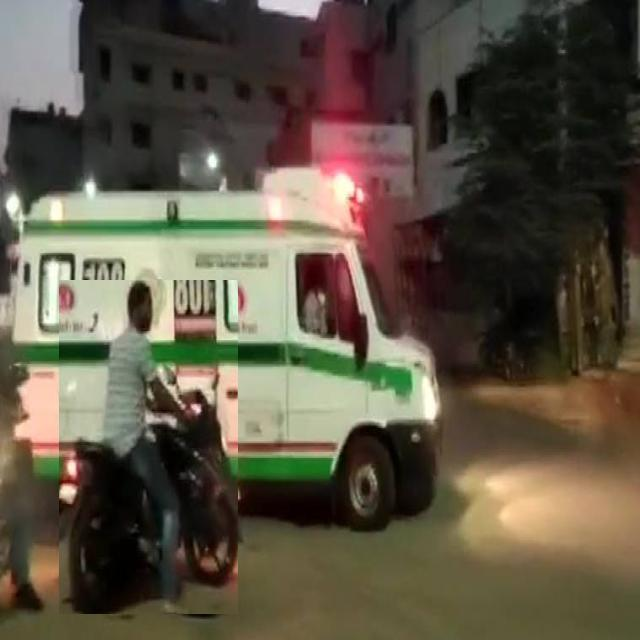emergency: (14, 169, 441, 523)
motorcycle: (60, 281, 238, 614)
